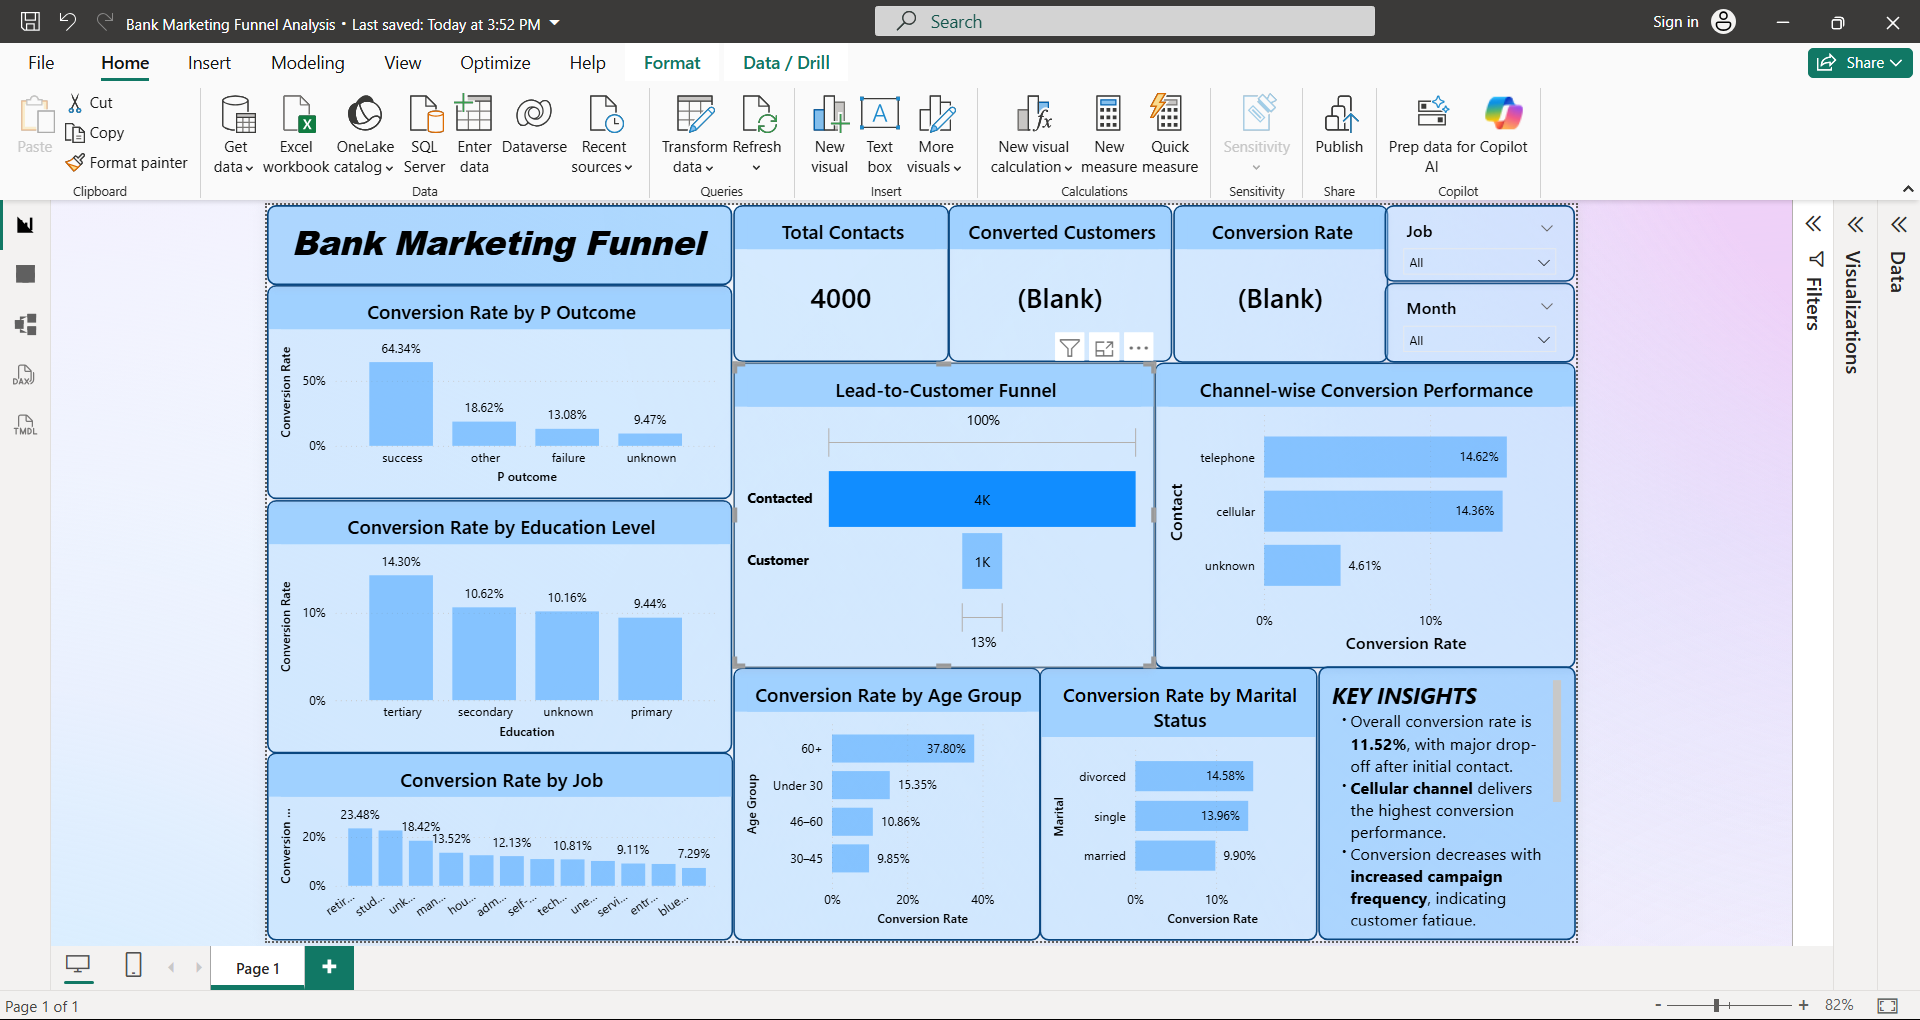

The dashboard page shown, as its layout file describes it:
{"tool":"powerbi","page":{"name":"Page 1","canvas":[1280,720],"ordinal":0},"visuals":[{"type":"card","title":"Total Contacts","fields":{"Values":["Cleaned_Bank_data.Total Contacts"]},"box":[455.6,0,211.3,153.7],"z":0},{"type":"card","title":"Converted Customers","fields":{"Values":["Cleaned_Bank_data.Total Customers"]},"box":[666.9,0,219.6,153.7],"z":1000},{"type":"card","title":"Conversion Rate","fields":{"Values":["Cleaned_Bank_data.Conversion Rate"]},"box":[886.6,0,210.3,154.1],"z":2000},{"type":"funnel","title":"Lead-to-Customer Funnel","fields":{"Y":["Cleaned_Bank_data.Funnel Count"],"Category":["Cleaned_Bank_data.Funnel Stage"]},"box":[455.6,153.7,413,299.1],"z":3000},{"type":"clusteredBarChart","title":"Channel-wise Conversion Performance","fields":{"Category":["Cleaned_Bank_data.Contact"],"Y":["Cleaned_Bank_data.Conversion Rate"]},"box":[868.6,153.7,411.7,299.1],"z":4000},{"type":"slicer","fields":{"Values":["Cleaned_Bank_data.Month"]},"box":[1093.7,75.5,186.6,78.2],"z":5000},{"type":"slicer","fields":{"Values":["Cleaned_Bank_data.Job"]},"box":[1093.7,0,186.6,75.5],"z":6000},{"type":"clusteredBarChart","title":"Conversion Rate by Marital Status","fields":{"Category":["Cleaned_Bank_data.Marital"],"Y":["Cleaned_Bank_data.Conversion Rate"]},"box":[756.1,452.8,271.7,267.6],"z":7000},{"type":"clusteredColumnChart","title":"Conversion Rate by Education Level","fields":{"Category":["Cleaned_Bank_data.Education"],"Y":["Cleaned_Bank_data.Conversion Rate"]},"box":[0,288.2,455.6,248.4],"z":8000},{"type":"clusteredBarChart","fields":{"Category":["Cleaned_Bank_data.Age Group"],"Y":["Cleaned_Bank_data.Conversion Rate"]},"box":[455.6,452.8,300.5,267.6],"z":9000},{"type":"clusteredColumnChart","title":"Conversion Rate by P Outcome","fields":{"Y":["Cleaned_Bank_data.Conversion Rate"],"Category":["Cleaned_Bank_data.P out Come"]},"box":[0,78.2,455.6,209.9],"z":10000},{"type":"textbox","title":"Bank Marketing Funnel","box":[0,0,455.6,78.2],"z":11000},{"type":"clusteredColumnChart","fields":{"Category":["Cleaned_Bank_data.Job"],"Y":["Cleaned_Bank_data.Conversion Rate"]},"box":[0,536,456,184],"z":12000},{"type":"textbox","box":[1028.4,451.2,251.9,267.8],"z":13000}]}

Visuals, with their boxes on the page's 1280x720 design canvas (x1, y1, x2, y2). These are canvas units, not pixel positions in the 1920x1020 screenshot, which may show the page scaled, cropped or inside an application window:
"Total Contacts" card: select_region(456, 0, 667, 154)
"Converted Customers" card: select_region(667, 0, 886, 154)
"Conversion Rate" card: select_region(887, 0, 1097, 154)
"Lead-to-Customer Funnel" funnel: select_region(456, 154, 869, 453)
"Channel-wise Conversion Performance" clusteredBarChart: select_region(869, 154, 1280, 453)
slicer - Cleaned_Bank_data.Month: select_region(1094, 76, 1280, 154)
slicer - Cleaned_Bank_data.Job: select_region(1094, 0, 1280, 76)
"Conversion Rate by Marital Status" clusteredBarChart: select_region(756, 453, 1028, 720)
"Conversion Rate by Education Level" clusteredColumnChart: select_region(0, 288, 456, 537)
clusteredBarChart - Cleaned_Bank_data.Age Group x Cleaned_Bank_data.Conversion Rate: select_region(456, 453, 756, 720)
"Conversion Rate by P Outcome" clusteredColumnChart: select_region(0, 78, 456, 288)
"Bank Marketing Funnel" textbox: select_region(0, 0, 456, 78)
clusteredColumnChart - Cleaned_Bank_data.Job x Cleaned_Bank_data.Conversion Rate: select_region(0, 536, 456, 720)
textbox: select_region(1028, 451, 1280, 719)
